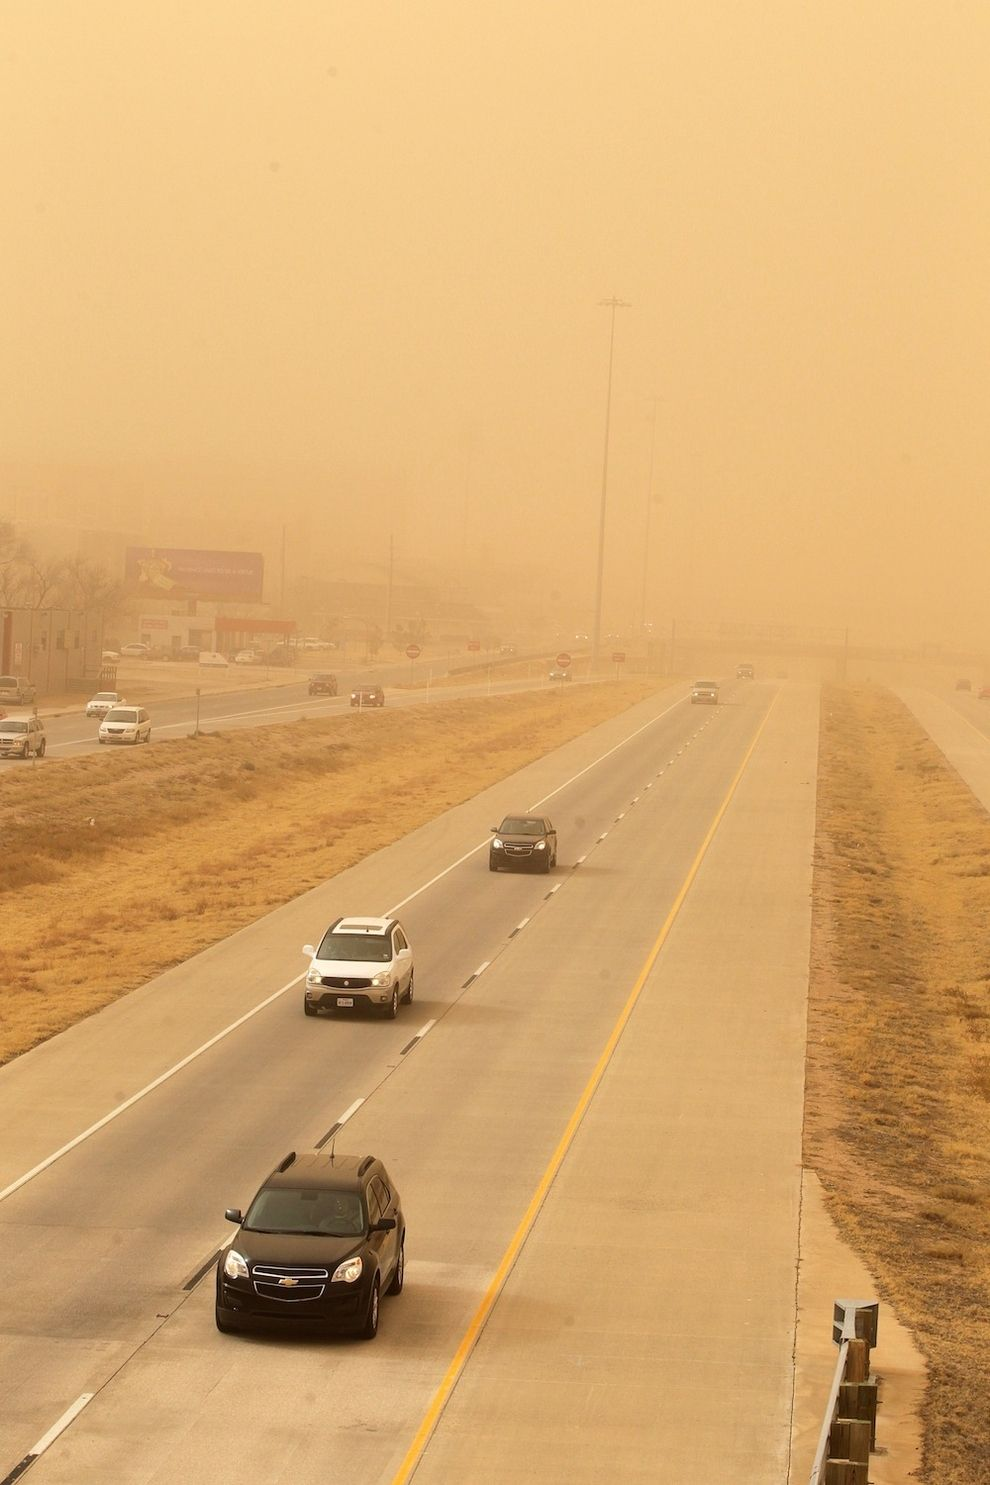car: (212, 1148, 409, 1341), (302, 913, 417, 1022), (487, 812, 558, 873), (97, 707, 151, 742), (4, 716, 46, 755), (4, 674, 35, 705), (85, 691, 120, 715), (350, 683, 385, 707), (689, 681, 720, 706), (306, 672, 338, 696), (140, 643, 171, 661), (118, 640, 147, 659), (173, 646, 200, 661), (731, 663, 754, 680), (548, 665, 569, 681), (498, 640, 517, 655)
